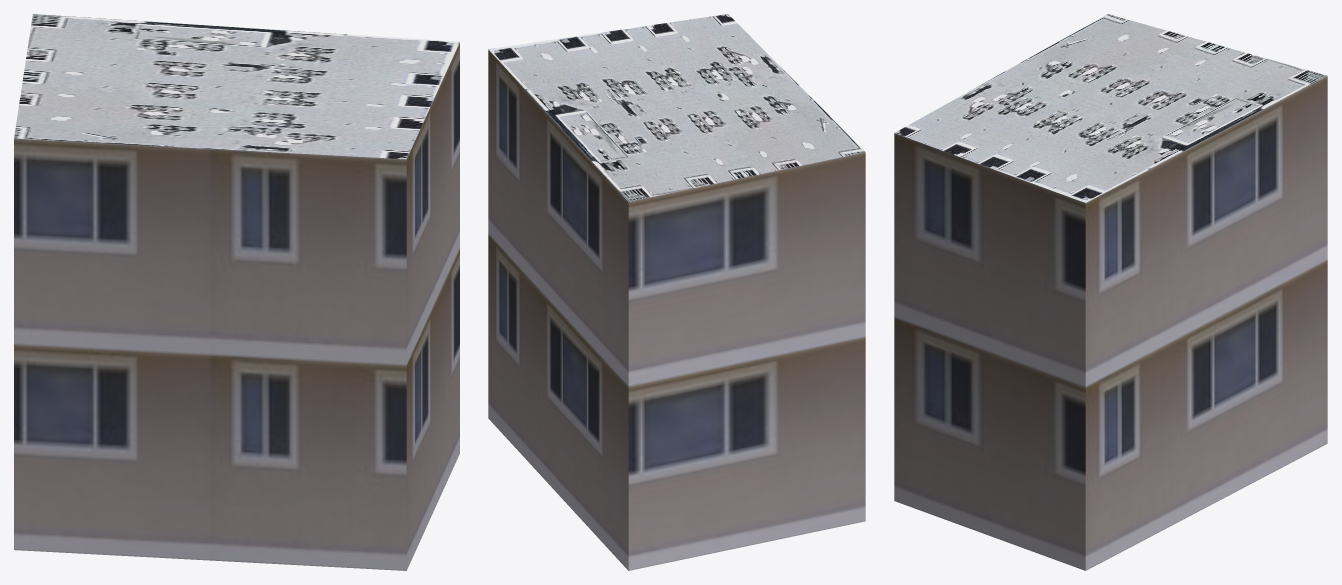
Rendered from ResTex__4442.fbx.
3 renders of one model, left to right at view 1: azimuth 30°, elevation 25°; view 2: azimuth 150°, elevation 25°; view 3: azimuth 270°, elevation 25°, orthographic. The views are drawn at different scales.
Visible parts, largest first — view 1: CityEngineMaterial_21_m, CityEngineMaterial_4_m; view 2: CityEngineMaterial_21_m, CityEngineMaterial_4_m; view 3: CityEngineMaterial_21_m, CityEngineMaterial_4_m.
Boxes of the visible parts, box(x1,y1,x2,y2) form: CityEngineMaterial_21_m: box(14, 42, 459, 570); CityEngineMaterial_4_m: box(14, 14, 459, 159); CityEngineMaterial_21_m: box(488, 49, 865, 570); CityEngineMaterial_4_m: box(488, 14, 865, 201); CityEngineMaterial_21_m: box(894, 76, 1327, 570); CityEngineMaterial_4_m: box(895, 14, 1327, 202).
Bounding box in the file's own units: 6.61 × 6 × 6.4.
Materials: 2 (2 with a texture image).
